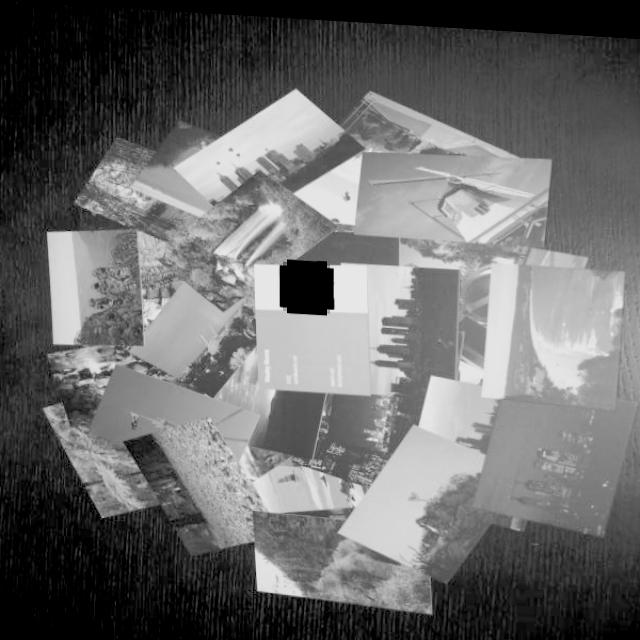qr_code: (283, 257, 330, 308)
